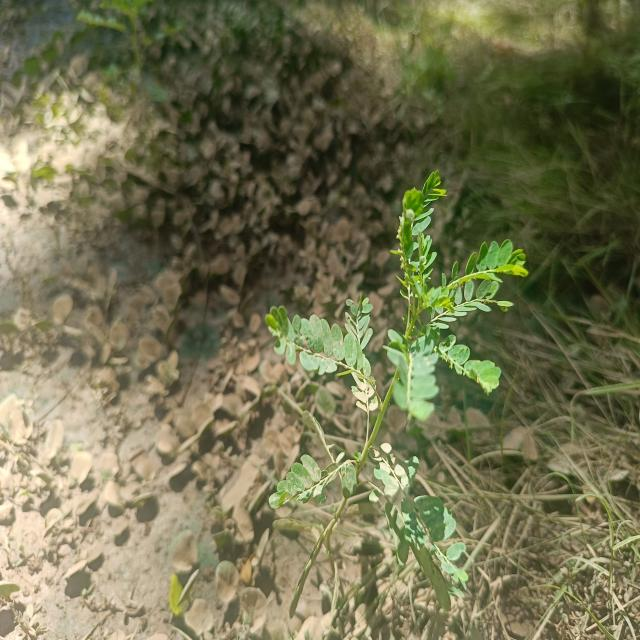weed: (267, 176, 557, 612)
